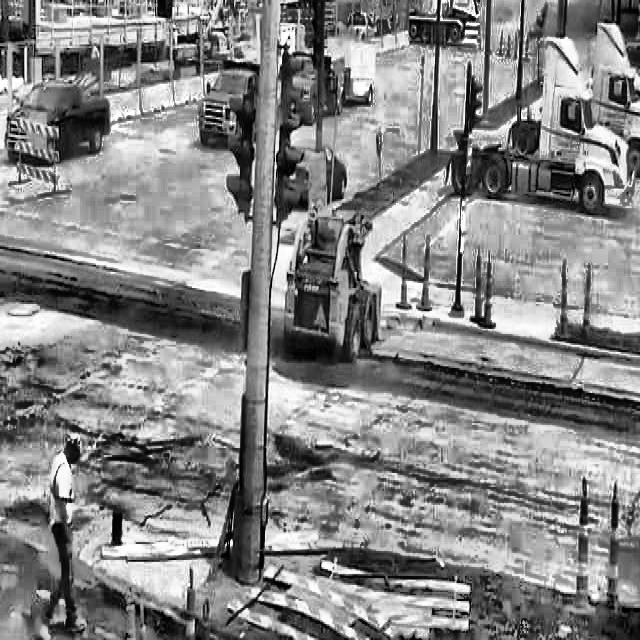buldozerpayloadergrader: (282, 203, 382, 361)
